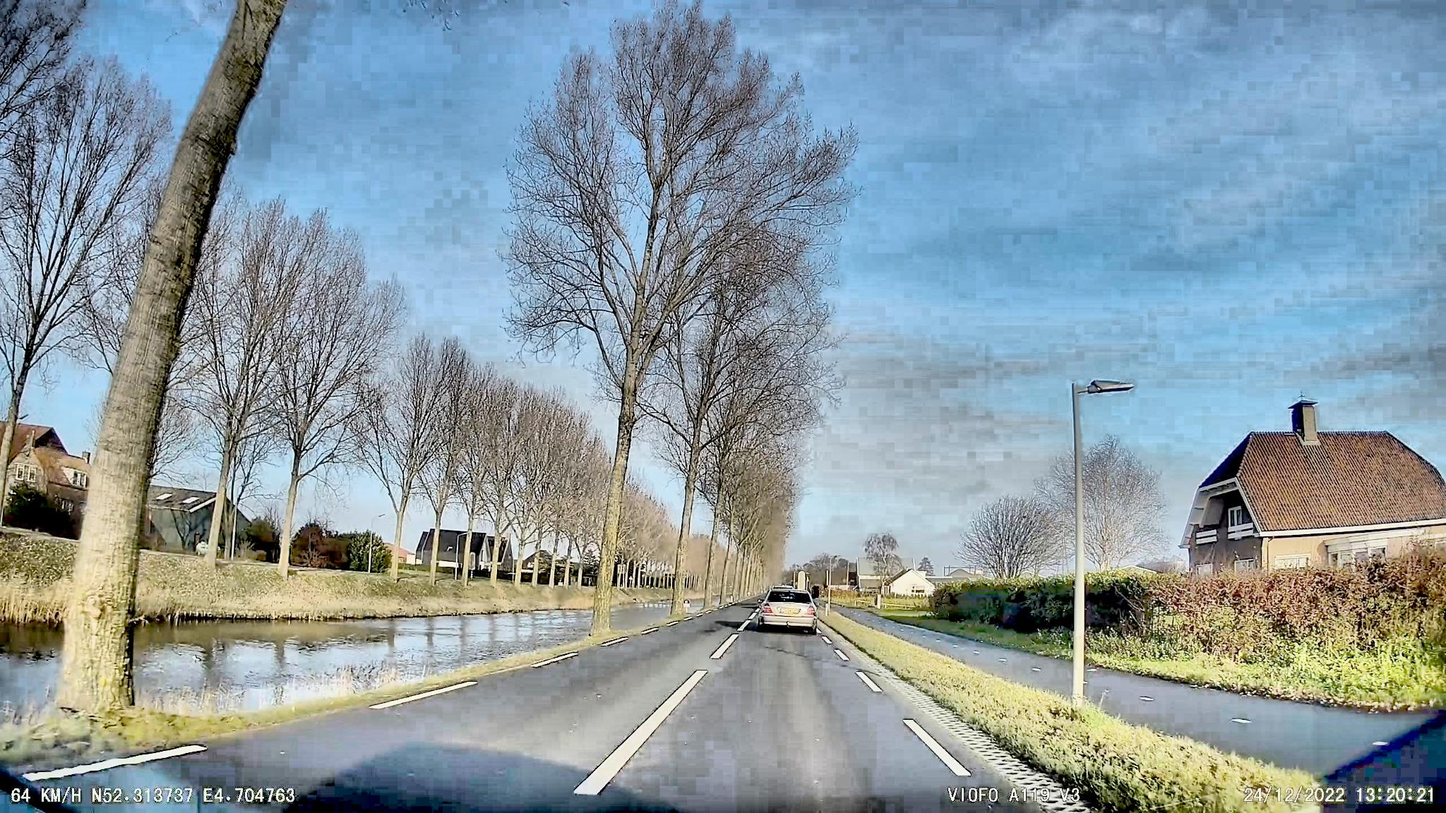Roads: (11, 603, 1096, 813)
